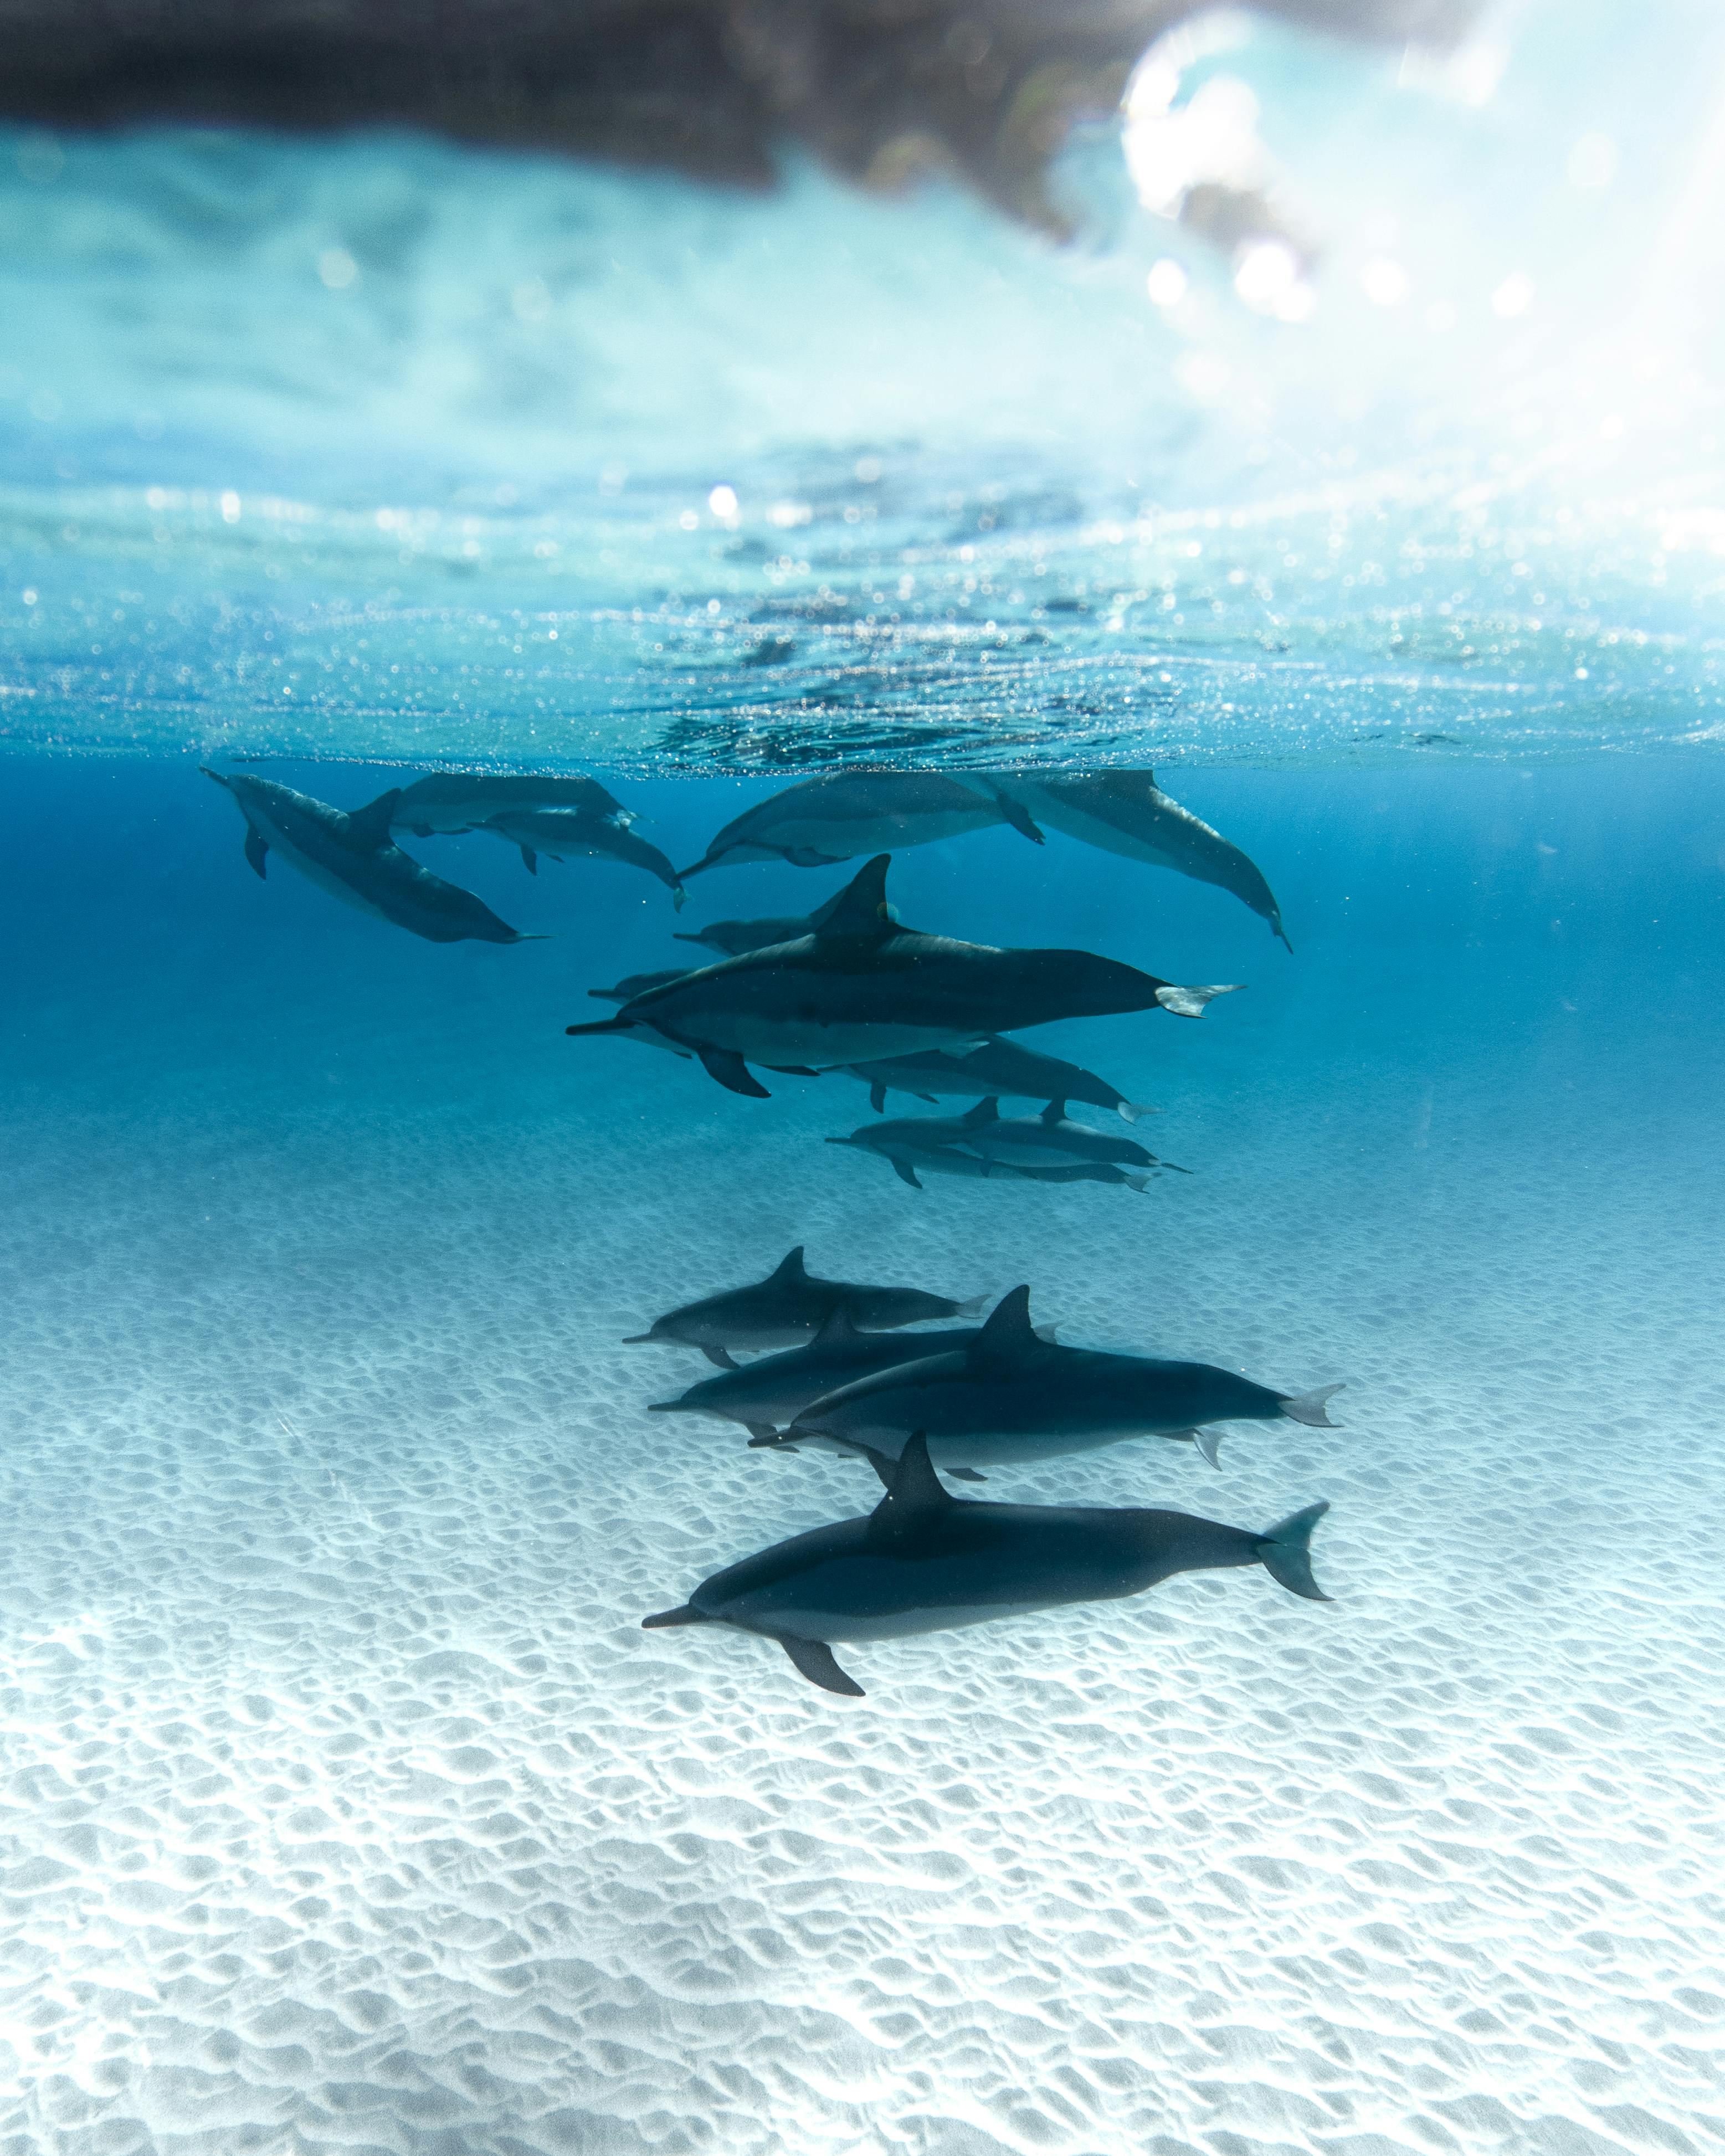dolphin: (637, 1427, 1331, 1698), (560, 852, 1252, 1102), (755, 1281, 1359, 1491), (194, 766, 547, 956), (648, 1297, 1067, 1456), (1010, 769, 1290, 956), (620, 1241, 986, 1369), (672, 766, 1046, 884), (818, 1095, 1156, 1195), (473, 806, 685, 912), (936, 1098, 1195, 1176), (968, 1021, 1139, 1130), (380, 766, 628, 838), (843, 1042, 989, 1118), (672, 905, 859, 961), (584, 957, 688, 1010)
